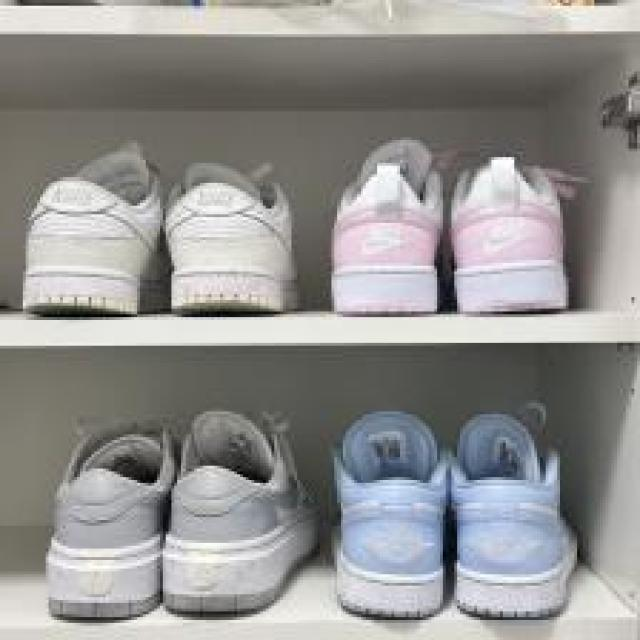shoe: (161, 410, 319, 612), (448, 402, 579, 619), (21, 140, 172, 315), (46, 425, 177, 619), (332, 412, 448, 619), (451, 157, 590, 314), (164, 162, 301, 313), (332, 138, 444, 314)
